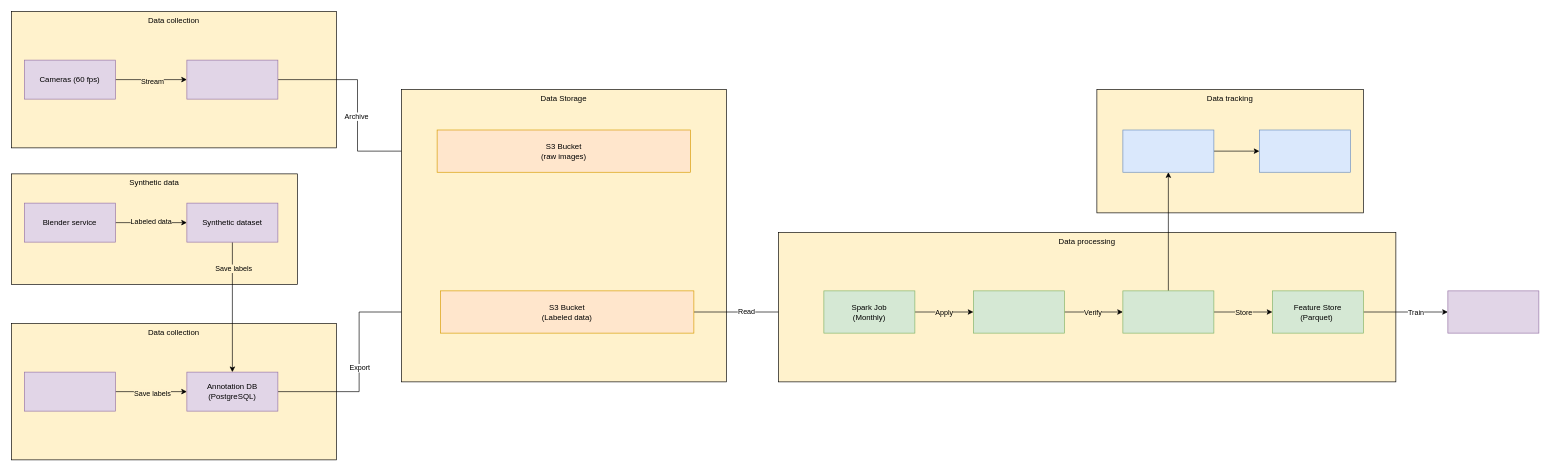
This 1550x471 diagram has some shape labels left out. Here are the shapes that lost their labels. From the top down, the centre of each, then its label:
the point at 232,79: Kafka images
the point at 1168,150: Verification metrics (Prometeus)
the point at 1304,150: Dashboards (Grafana)
the point at 1018,311: Data Augmentation
the point at 1168,311: Data Verification
the point at 1493,311: Training Pipeline
the point at 69,391: WEB UI (Annotation tool)
